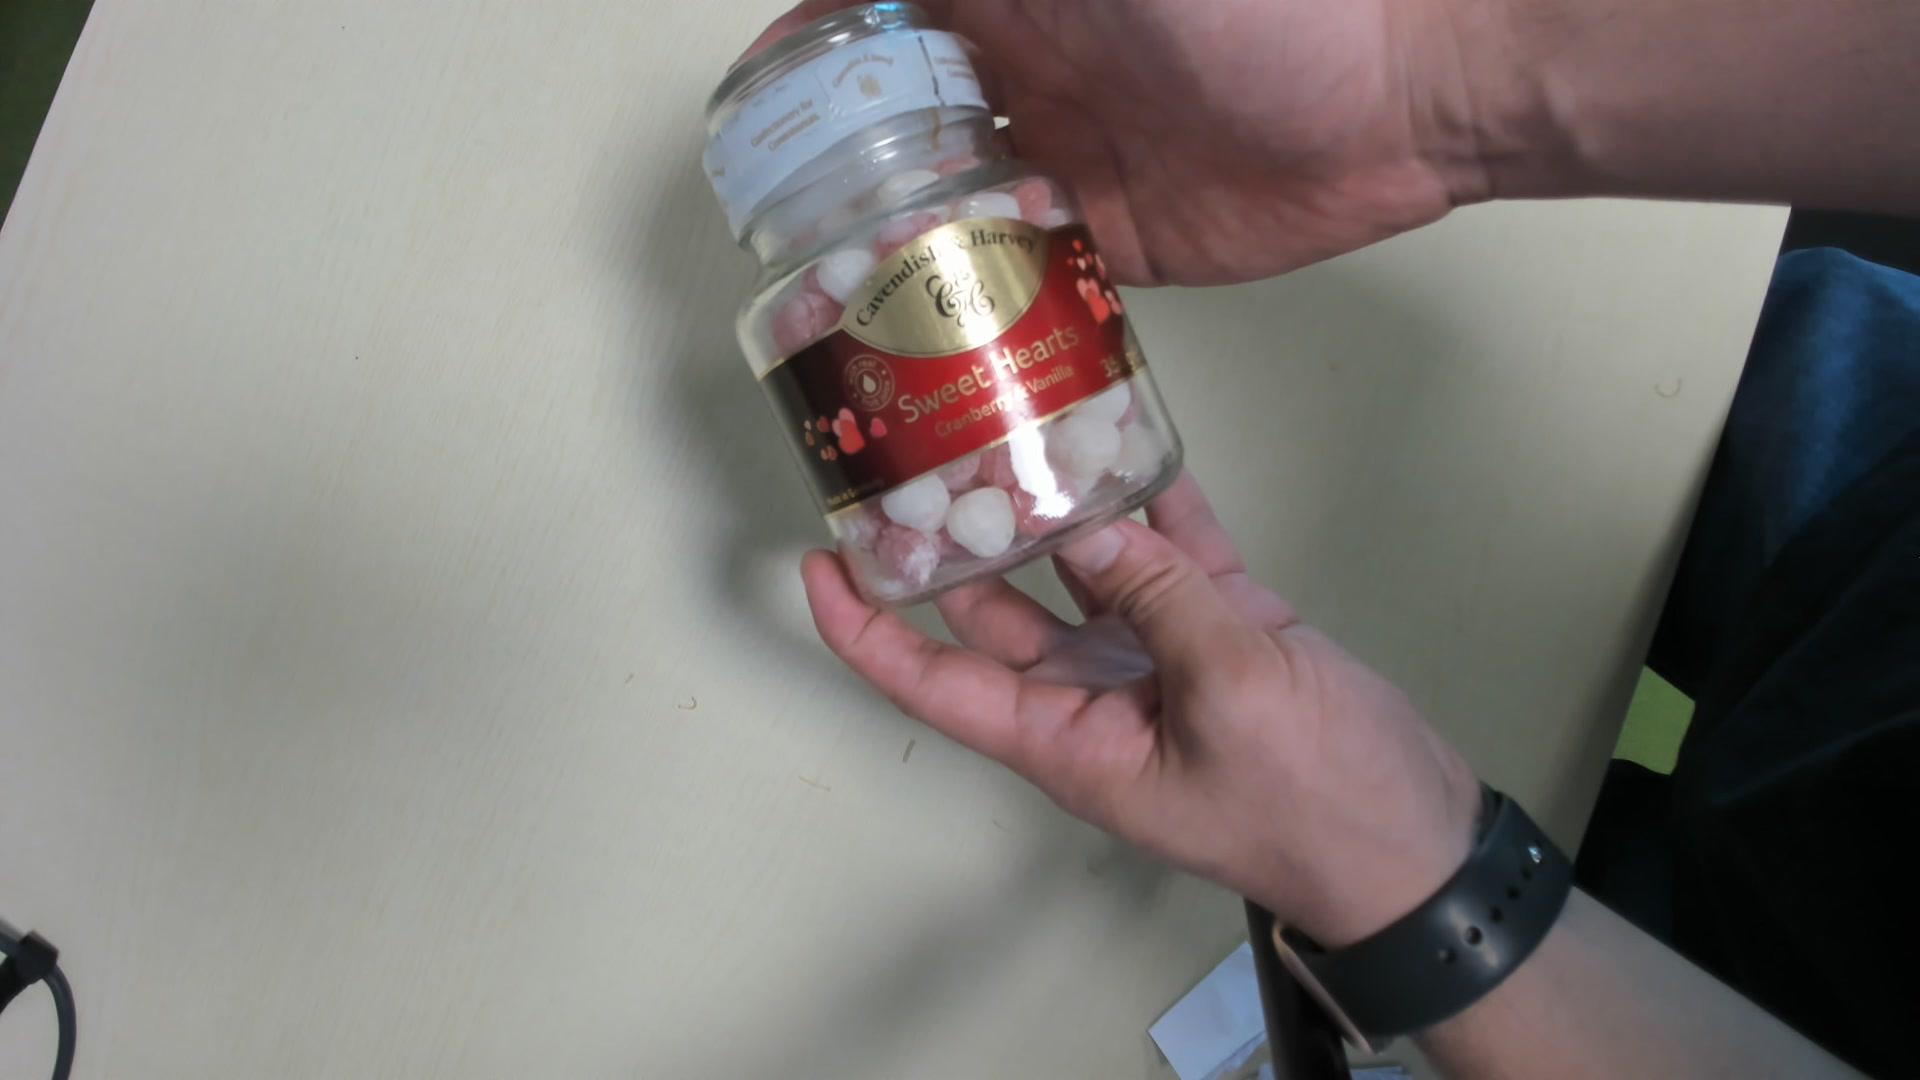SweetsChocolatesOthers_300-399g_NonHalal_Nonhealthy: (695, 21, 1184, 595)
